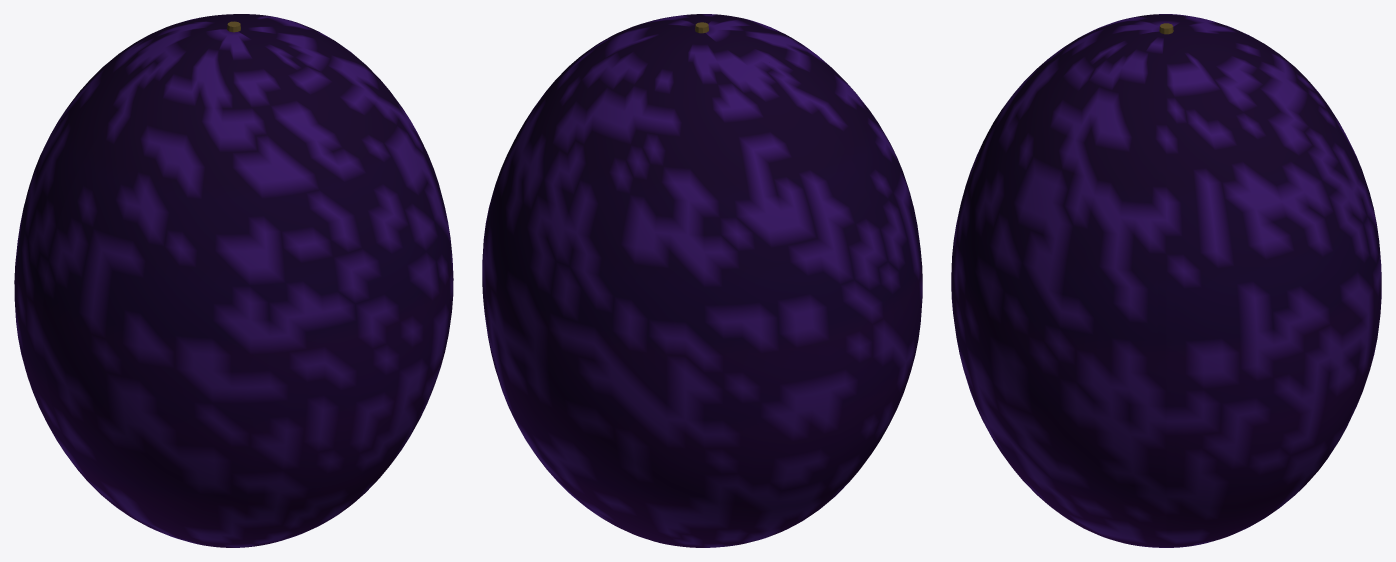
The model's file is prune.glb.
3 views of the same model, side by side, from view 1: azimuth 30°, elevation 25°; view 2: azimuth 150°, elevation 25°; view 3: azimuth 270°, elevation 25° (orthographic).
Visible parts, largest first — view 1: entier_peau, moitie_B_peau, moitie_A_peau; view 2: entier_peau, moitie_A_peau, moitie_B_peau; view 3: entier_peau, moitie_A_peau, moitie_B_peau.
Part boxes in pixels (x1=…): entier_peau: x1=14, y1=14, x2=453, y2=547; moitie_B_peau: x1=42, y1=25, x2=452, y2=547; moitie_A_peau: x1=14, y1=14, x2=338, y2=504; entier_peau: x1=482, y1=14, x2=922, y2=547; moitie_A_peau: x1=482, y1=26, x2=893, y2=547; moitie_B_peau: x1=598, y1=14, x2=922, y2=500; entier_peau: x1=951, y1=14, x2=1381, y2=547; moitie_A_peau: x1=1166, y1=14, x2=1381, y2=547; moitie_B_peau: x1=951, y1=14, x2=1166, y2=547.
Bounding box in the file's own units: 1.6 × 2.02 × 1.56.
